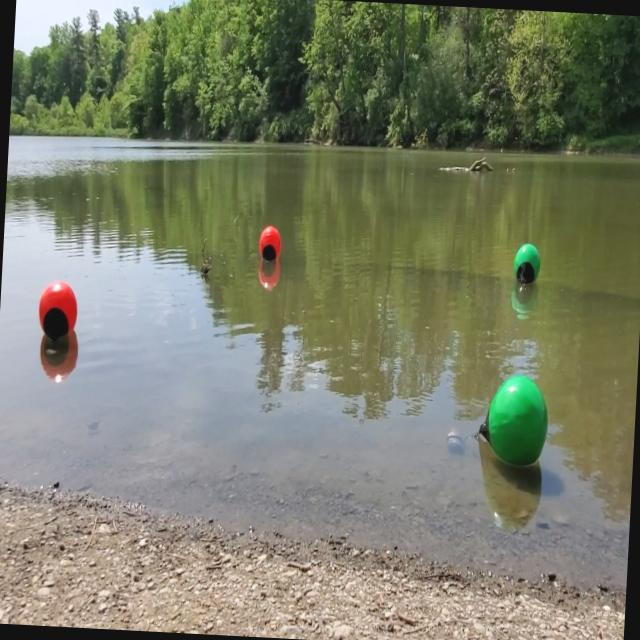buoy: (477, 370, 552, 470), (36, 276, 80, 342), (513, 240, 541, 286), (259, 224, 282, 264)
